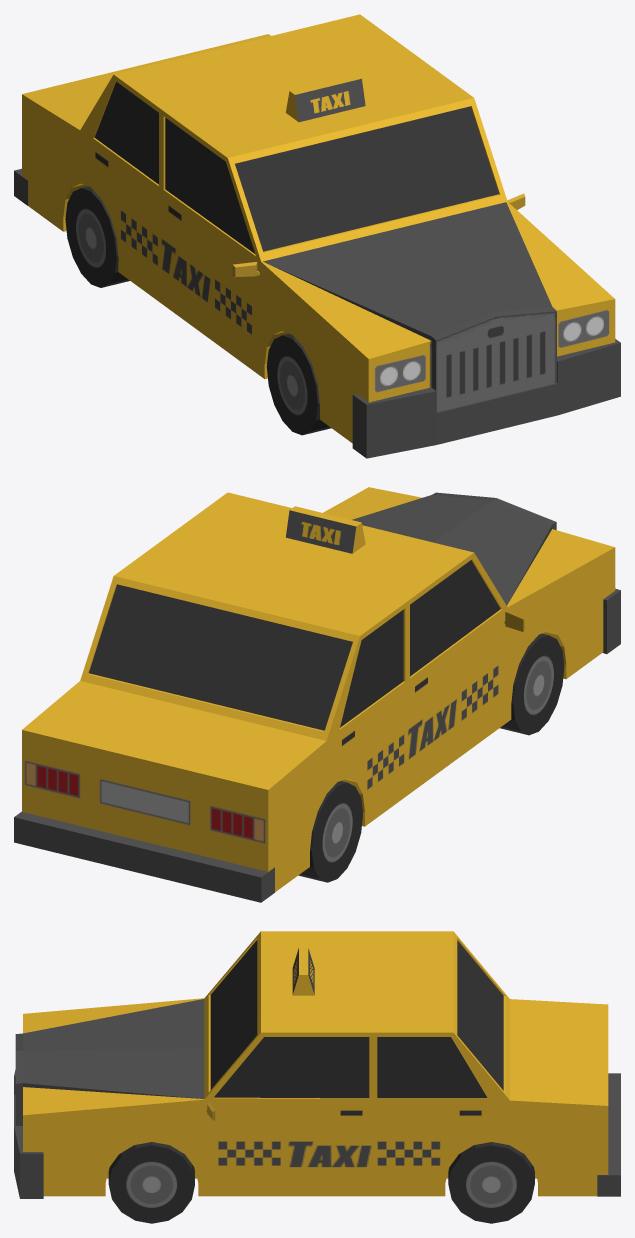
File: vehicle-taxi.glb
The picture shows the model from 3 angles, top to bottom: view 1: azimuth 30°, elevation 25°; view 2: azimuth 150°, elevation 25°; view 3: azimuth 270°, elevation 25°; orthographic projection. The views are drawn at different scales.
Visible parts, largest first — view 1: model; view 2: model; view 3: model.
Boxes of the visible parts, x1,y1,x2,y2 form: model: (14,14,620,458); model: (14,487,620,902); model: (14,931,620,1223).
Size of the model in its own units: 2.96 by 2.43 by 6.32.
Materials: 1 (1 with a texture image).
